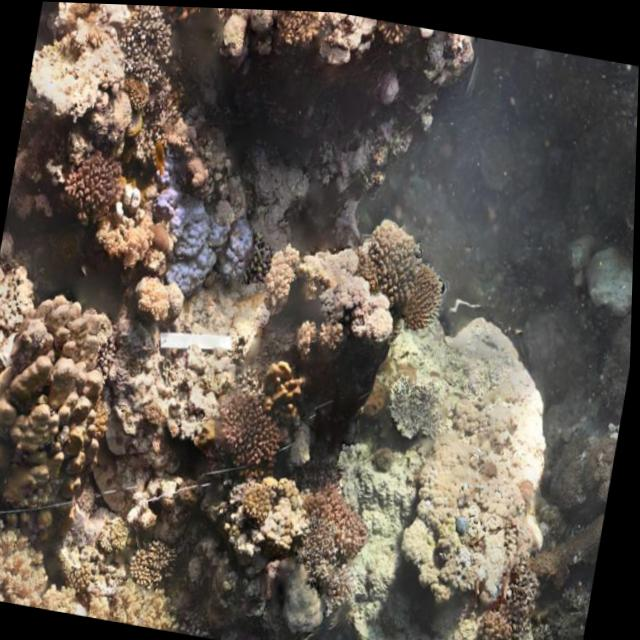Bleached Coral: (148, 156, 269, 307), (305, 243, 408, 341)
